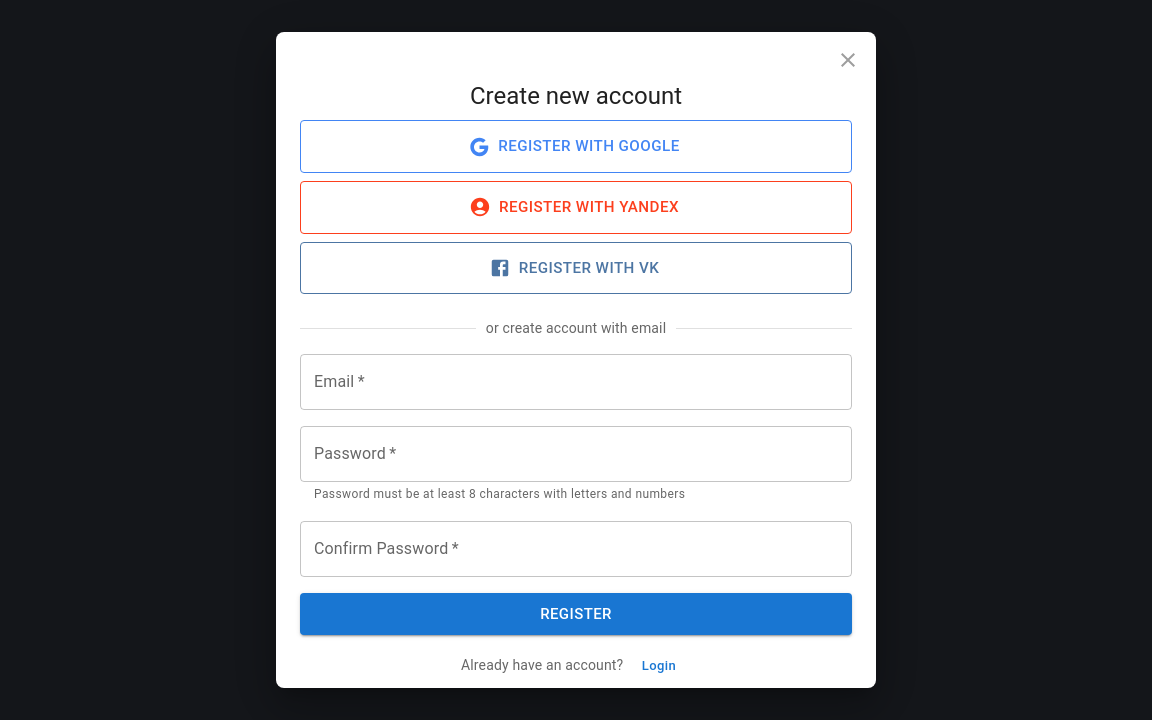
Test: AuthModal › Register Mode › switches to login mode when login link is clicked
The image size is (1152, 720).
Step 1. Click the button with aria-label "Switch to Login form" → (659, 667), box [627,651,691,682]
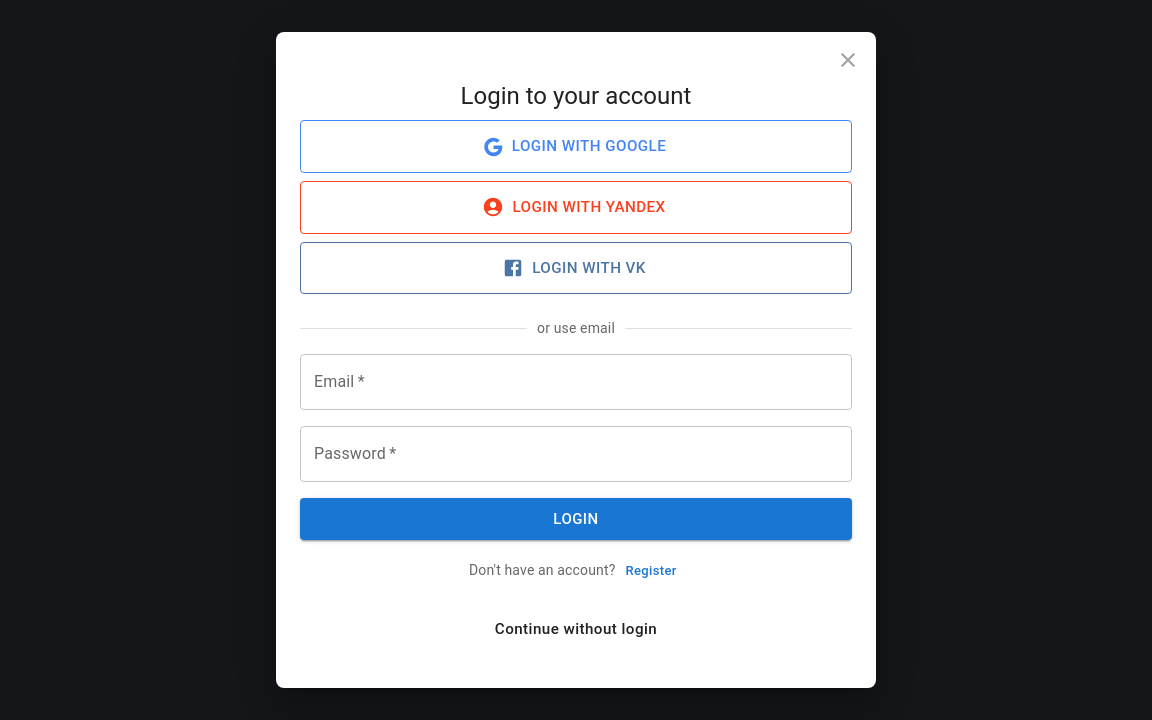
Expected: the heading "Login to your account" is shown, [461,82,691,110]
